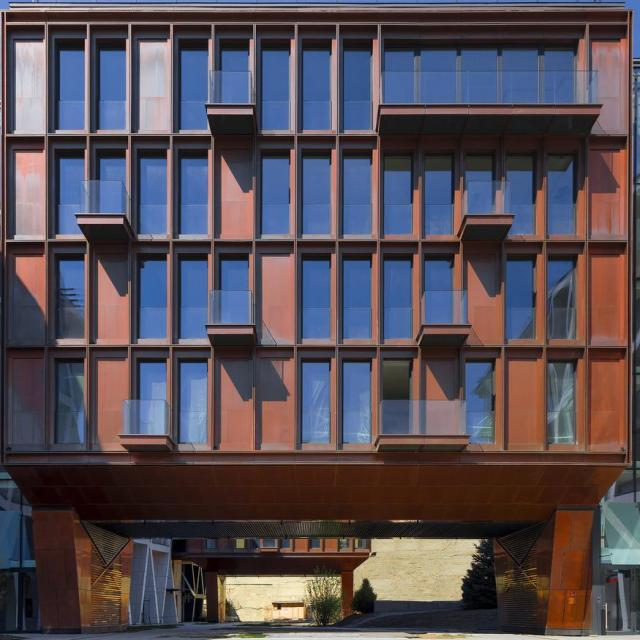railing: (384, 70, 600, 102), (379, 400, 467, 436), (121, 398, 175, 445), (81, 180, 132, 225), (461, 181, 510, 223), (208, 289, 253, 331), (208, 72, 256, 107)
window: (387, 44, 573, 70), (178, 359, 210, 446), (343, 255, 374, 337), (138, 359, 171, 436), (305, 153, 335, 237), (180, 258, 211, 339), (301, 260, 332, 339), (101, 45, 129, 132), (143, 156, 173, 237), (345, 154, 374, 237), (61, 256, 90, 339), (426, 155, 454, 239), (509, 152, 537, 236), (60, 361, 88, 444), (344, 364, 373, 444), (302, 361, 330, 443), (344, 48, 372, 130), (386, 258, 413, 342), (505, 259, 534, 337), (304, 46, 331, 129), (470, 361, 497, 444), (59, 43, 85, 129), (264, 45, 290, 131), (182, 155, 209, 237), (548, 159, 577, 234), (548, 261, 575, 340), (184, 44, 208, 132), (143, 258, 169, 337), (549, 366, 575, 445), (386, 157, 412, 234), (426, 256, 454, 326), (60, 156, 84, 237), (266, 154, 290, 235), (222, 256, 250, 325), (222, 46, 252, 104), (103, 153, 127, 215), (470, 155, 493, 216)
